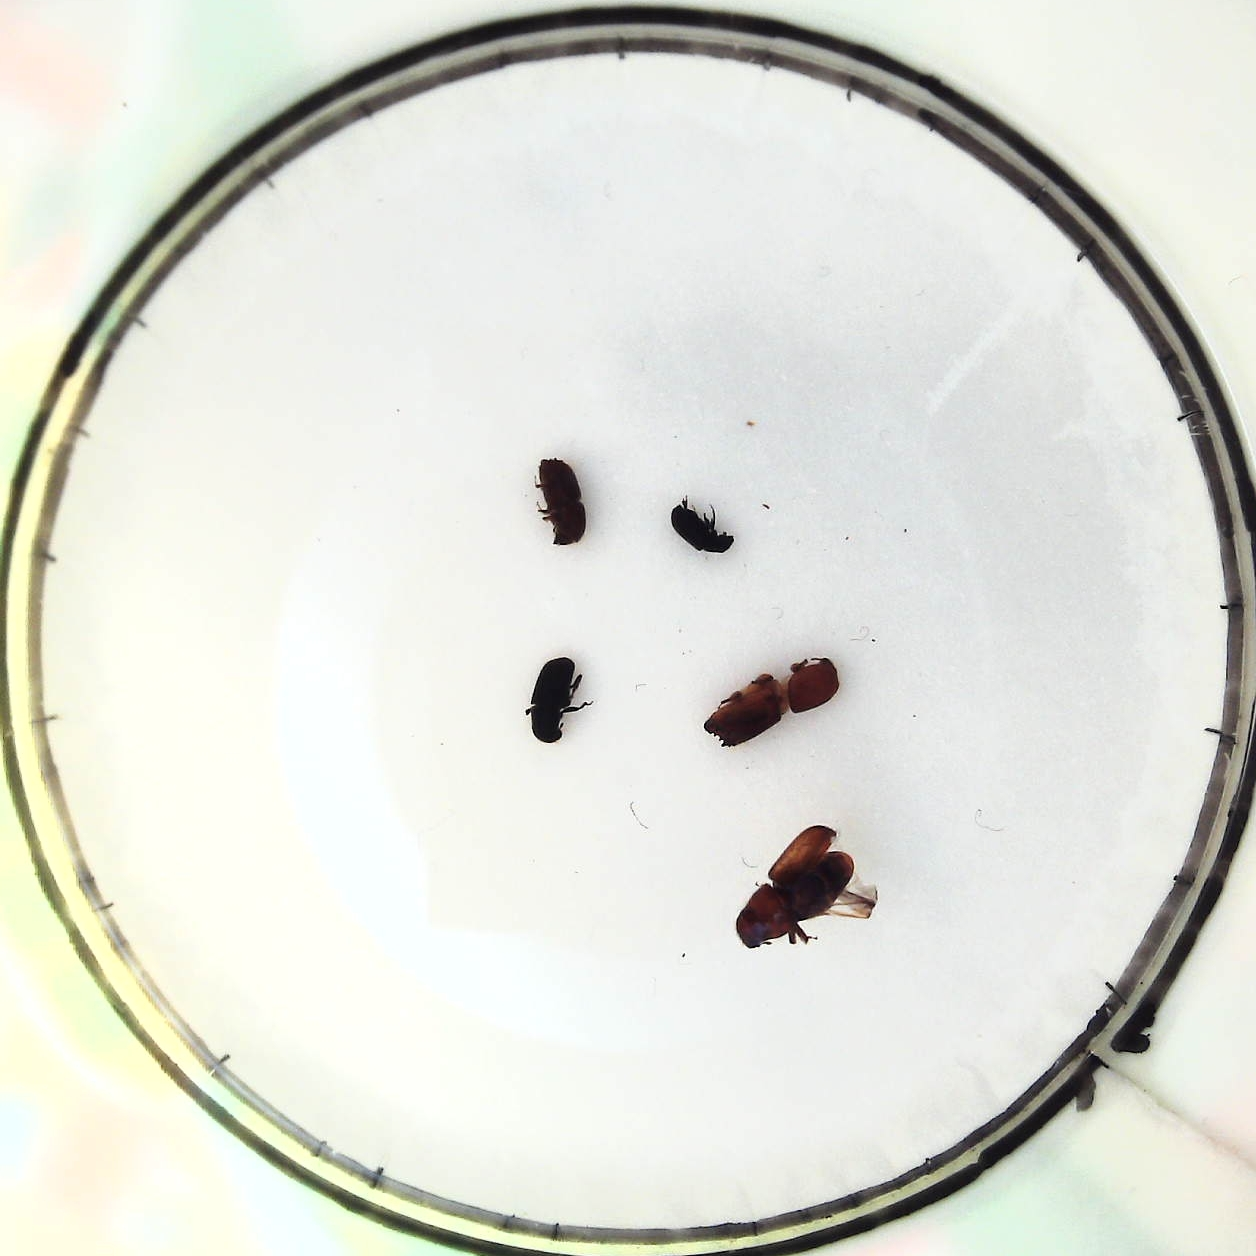Boerner: (710, 658, 842, 753)
Leconte: (735, 826, 874, 950)
Linnaeus: (530, 450, 585, 556)
armandi: (527, 653, 585, 750)
coleoptera: (666, 490, 730, 560)
